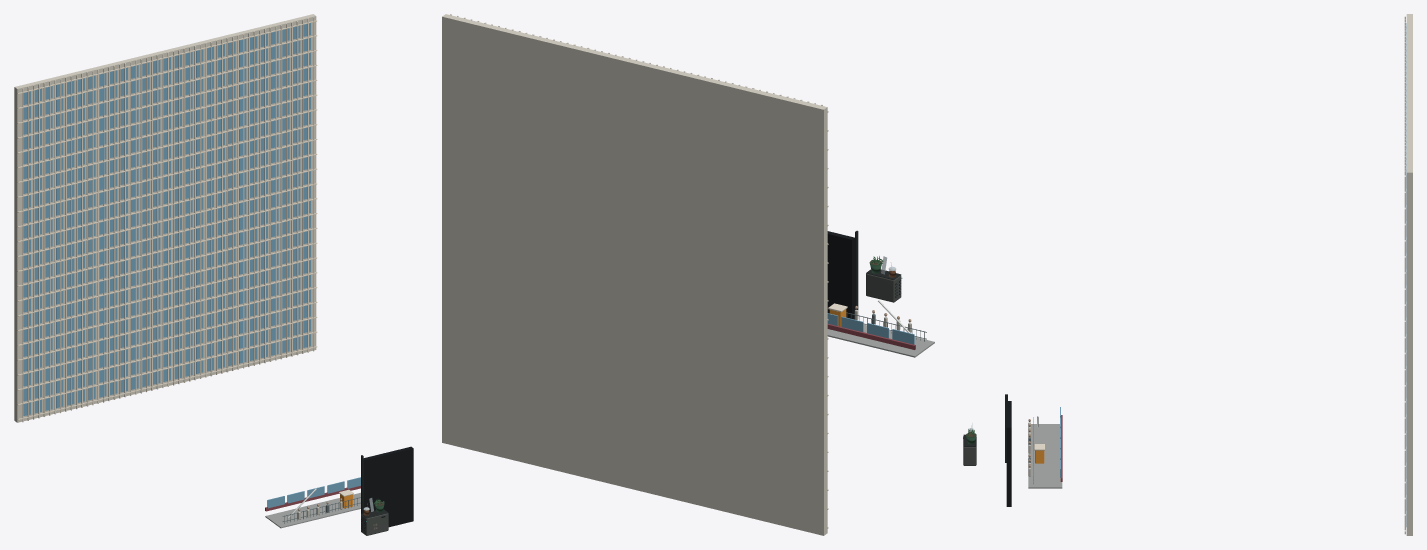
Rendered from scene-0-viga.glb.
The picture shows the model from 3 angles, left to right: view 1: azimuth 30°, elevation 25°; view 2: azimuth 150°, elevation 25°; view 3: azimuth 270°, elevation 25°; orthographic projection. The views are drawn at different scales.
Parts seen in each view (by area): view 1: office block, dark interior, street pavement, vertical mullion.017, vertical mullion.030, vertical mullion.038, vertical mullion.004, vertical mullion.012, vertical mullion.025, vertical mullion.046, vertical mullion.051, vertical mullion.005 (+70 smaller); view 2: office block, dark interior, street pavement, rental kiosk body; view 3: office block, street pavement, dark interior, vertical mullion.054.
Boxes of the visible parts, box(x1,y1,x2,y2) form: office block: box(14, 14, 316, 422); dark interior: box(363, 446, 413, 527); street pavement: box(265, 492, 360, 528); vertical mullion.017: box(113, 65, 115, 399); vertical mullion.030: box(183, 48, 185, 382); vertical mullion.038: box(226, 38, 228, 372); vertical mullion.004: box(43, 83, 45, 416); vertical mullion.012: box(86, 72, 88, 406); vertical mullion.025: box(156, 55, 158, 389); vertical mullion.046: box(269, 27, 271, 361); vertical mullion.051: box(296, 21, 298, 355); vertical mullion.005: box(49, 81, 50, 415); office block: box(442, 14, 827, 535); dark interior: box(827, 231, 854, 319); street pavement: box(827, 324, 934, 357); rental kiosk body: box(866, 273, 901, 302); office block: box(1406, 14, 1412, 535); street pavement: box(1028, 424, 1062, 488); dark interior: box(1006, 401, 1011, 506); vertical mullion.054: box(1404, 170, 1405, 534).
Size of the model in its own units: 30 by 33.5 by 35.92.
